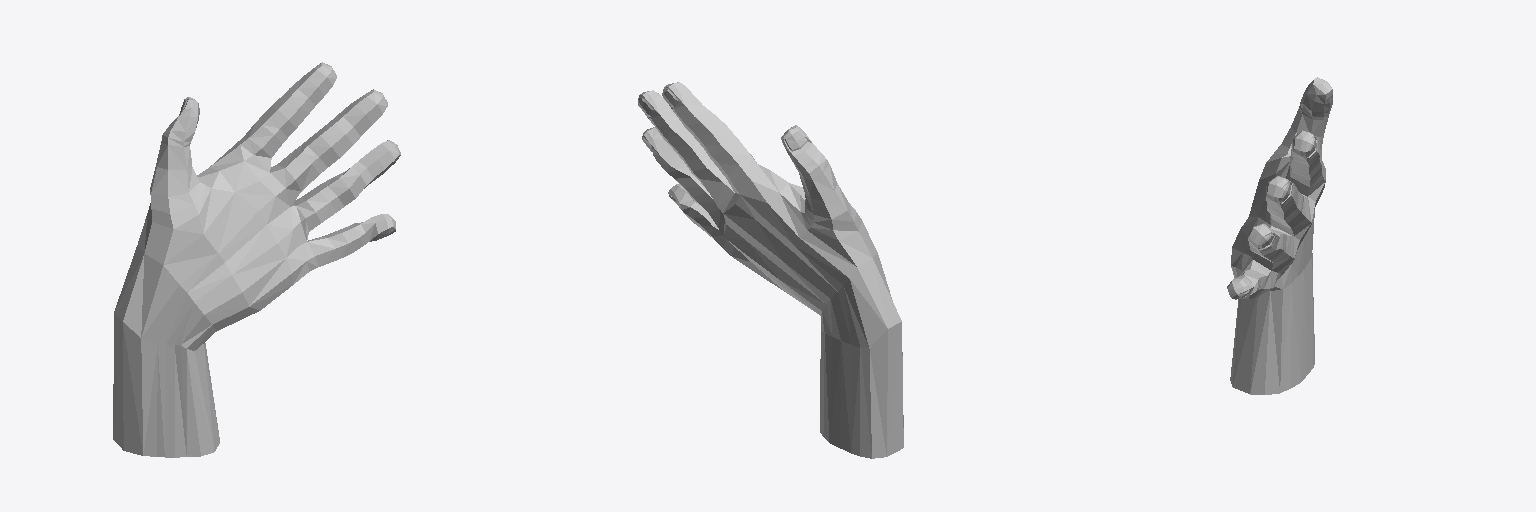
The model's file is handAnimated4_000140.obj.
The picture shows the model from 3 angles: view 1: azimuth 30°, elevation 25°; view 2: azimuth 150°, elevation 25°; view 3: azimuth 270°, elevation 25°; orthographic projection.
Parts seen in each view (by area): view 1: Cube.000_Cube.017_Detached_Detached; view 2: Cube.000_Cube.017_Detached_Detached; view 3: Cube.000_Cube.017_Detached_Detached.
Part boxes in pixels (x1,y1,x2,y2): Cube.000_Cube.017_Detached_Detached: (113, 62, 400, 457); Cube.000_Cube.017_Detached_Detached: (638, 82, 903, 458); Cube.000_Cube.017_Detached_Detached: (1227, 77, 1332, 394).
Size of the model in its own units: 0.9056 by 1.05 by 0.3096.